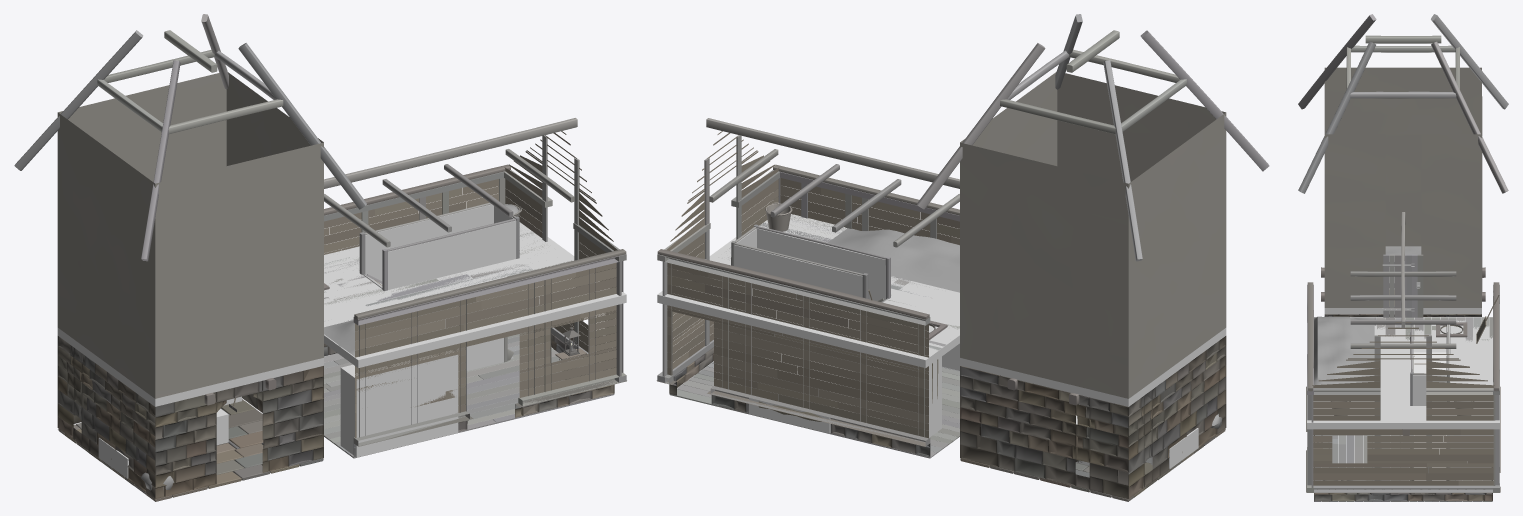
The model's file is hop_kiln_interior.glb.
3 renders of one model, left to right at view 1: azimuth 30°, elevation 25°; view 2: azimuth 150°, elevation 25°; view 3: azimuth 270°, elevation 25°, orthographic. The views are drawn at different scales.
Parts seen in each view (by area): view 1: Kiln plaster, Store lining, Firing room walls, Store frame, Kiln roof timbers / tav_oak, Stored pockets solid, Store roof timbers / tav_oak, Stair guard south, Store floor.001, Cooling floor 0, Firing floor / tav_stone, Cooling floor 1 (+8 smaller); view 2: Kiln plaster, Store lining, Firing room walls, Store frame, Kiln roof timbers / tav_oak, Store roof timbers / tav_oak, Store hops, Cooling floor 0, Store floor.001, Store plinth inside, Stair guard south, Stair guard north (+9 smaller); view 3: Kiln plaster, Store lining, Kiln roof timbers / tav_oak, Store frame, Store roof timbers / tav_oak, Store hops, Cooling floor 3, Cooling floor 0, Door Kiln upper, Store plinth inside, Cooling floor 1, Store floor.001 (+9 smaller).
Part boxes in pixels (x1,y1,x2,y2): Kiln plaster: [57, 72, 323, 398]; Store lining: [324, 131, 617, 438]; Firing room walls: [57, 336, 323, 499]; Store frame: [324, 135, 626, 446]; Kiln roof timbers / tav_oak: [14, 16, 366, 260]; Stored pockets solid: [340, 350, 458, 457]; Store roof timbers / tav_oak: [324, 118, 626, 320]; Stair guard south: [388, 223, 505, 371]; Store floor.001: [324, 332, 614, 458]; Cooling floor 0: [324, 251, 450, 367]; Firing floor / tav_stone: [58, 399, 323, 501]; Cooling floor 1: [386, 258, 583, 345]; Kiln plaster: [960, 72, 1226, 398]; Store lining: [666, 131, 959, 438]; Firing room walls: [960, 336, 1226, 499]; Store frame: [657, 135, 959, 446]; Kiln roof timbers / tav_oak: [917, 16, 1269, 260]; Store roof timbers / tav_oak: [657, 118, 959, 320]; Store hops: [828, 228, 959, 292]; Cooling floor 0: [833, 281, 959, 368]; Store floor.001: [669, 343, 959, 458]; Store plinth inside: [656, 328, 930, 457]; Stair guard south: [767, 231, 885, 300]; Stair guard north: [745, 247, 862, 413]; Kiln plaster: [1324, 67, 1482, 307]; Store lining: [1312, 322, 1494, 485]; Kiln roof timbers / tav_oak: [1298, 15, 1508, 193]; Store frame: [1307, 284, 1499, 492]; Store roof timbers / tav_oak: [1307, 212, 1499, 388]; Store hops: [1314, 316, 1374, 385]; Cooling floor 3: [1307, 406, 1499, 429]; Cooling floor 0: [1314, 317, 1492, 353]; Door Kiln upper: [1382, 254, 1423, 317]; Store plinth inside: [1306, 386, 1500, 500]; Cooling floor 1: [1307, 353, 1410, 405]; Store floor.001: [1314, 435, 1492, 501].
Bounding box in the file's own units: 13 × 10.18 × 5.89.
